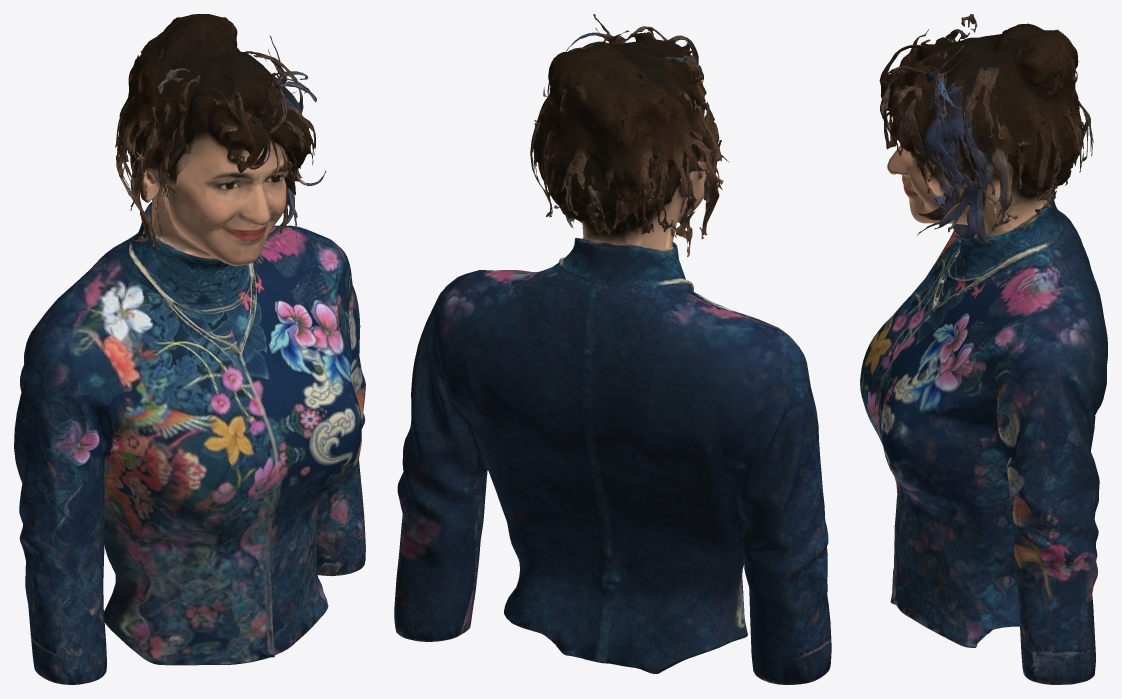
File: norah_jones_face.glb
The picture shows the model from 3 angles, left to right: view 1: azimuth 30°, elevation 25°; view 2: azimuth 150°, elevation 25°; view 3: azimuth 270°, elevation 25°; orthographic projection. The views are drawn at different scales.
Size of the model in its own units: 1.24 by 1.88 by 0.7335.
1 material, 1 textured.
